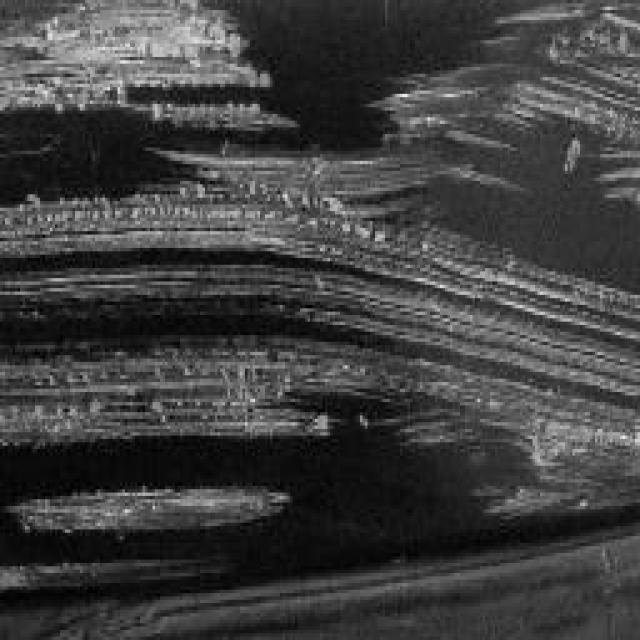Door: (5, 0, 638, 640)
